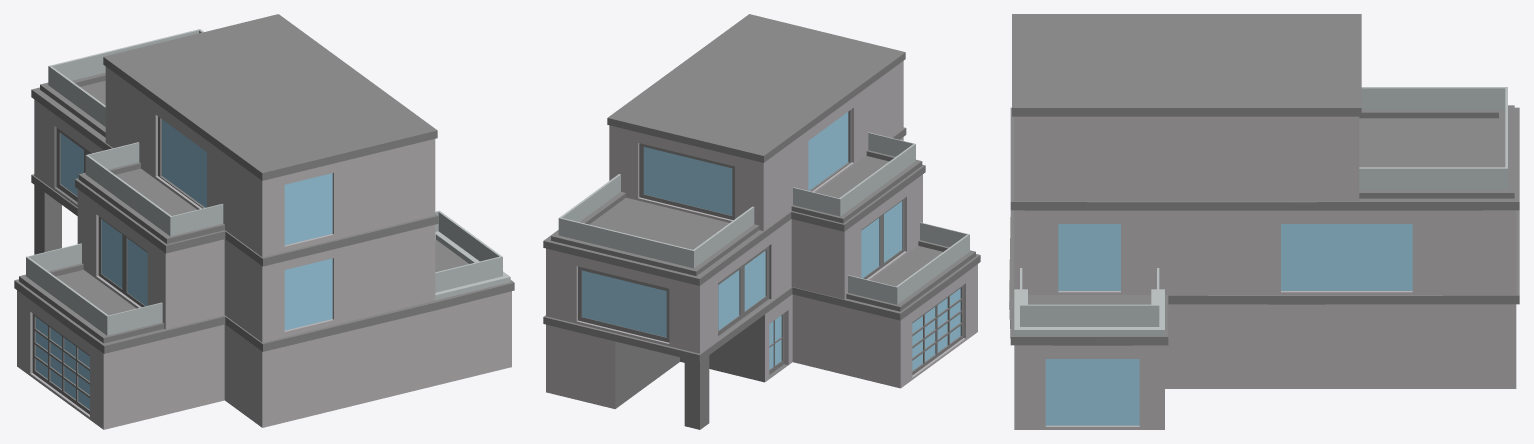
The model's file is building2_city.fbx.
3 views of the same model, side by side, from view 1: azimuth 30°, elevation 25°; view 2: azimuth 150°, elevation 25°; view 3: azimuth 270°, elevation 25° (orthographic). The views are drawn at different scales.
Visible parts, largest first — view 1: Cube.004; view 2: Cube.004; view 3: Cube.004.
Boxes of the visible parts, x1,y1,x2,y2 form: Cube.004: [14, 14, 514, 429]; Cube.004: [543, 14, 980, 429]; Cube.004: [1009, 14, 1519, 429].
Bounding box in the file's own units: 1514 × 990 × 1627.
